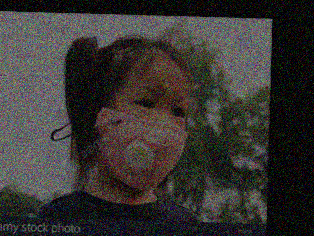with_mask: (93, 82, 189, 193)
